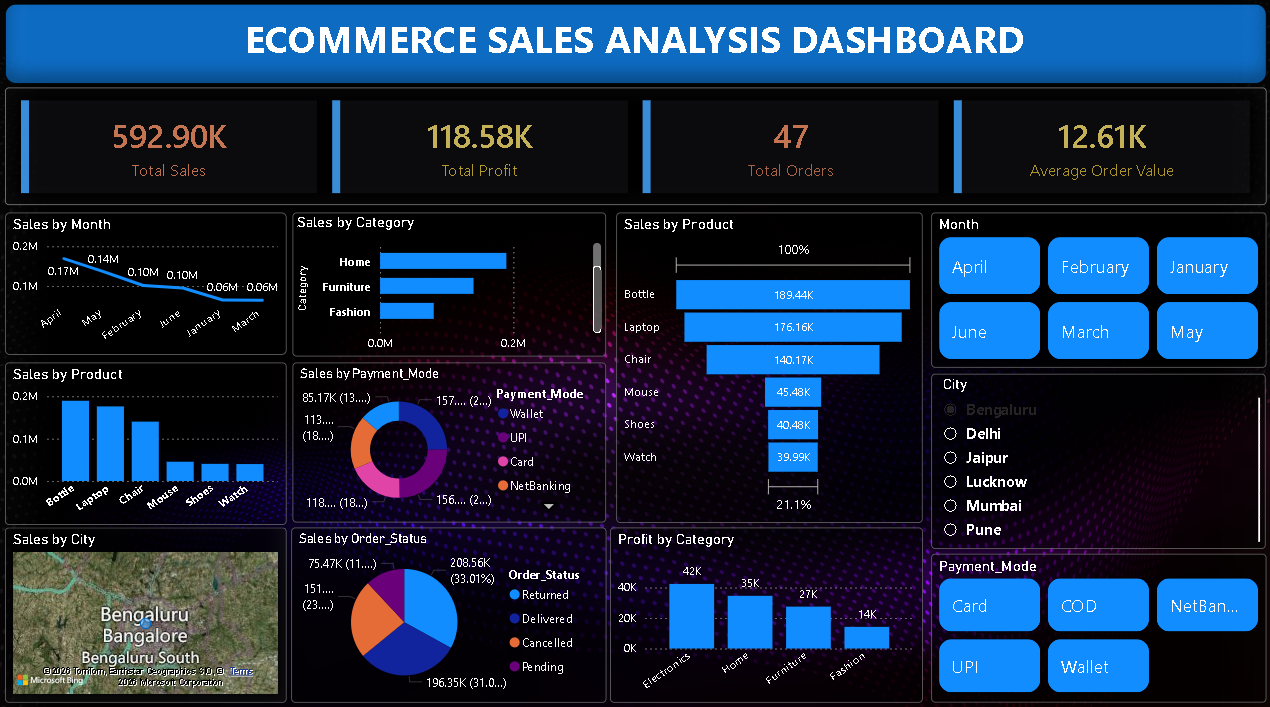

This screenshot's page, from the dashboard's own definition file:
{"tool":"powerbi","page":{"name":"Page 1","canvas":[1280,720],"ordinal":0},"visuals":[{"type":"cardVisual","fields":{"Data":["Dax Measure.Total Sales","Dax Measure.Total Profit","Dax Measure.Total Orders","Dax Measure.Average Order Value"]},"box":[10,92.5,1261.2,117.5],"z":0},{"type":"textbox","box":[10,8.8,1261.2,80],"z":1000},{"type":"lineChart","title":"Sales by Month","fields":{"Category":["ecommerce orders.Month"],"Y":["Sum(ecommerce orders.Sales)"]},"box":[10,217.5,281.2,142.5],"z":2000},{"type":"barChart","title":"Sales by Category","fields":{"Category":["ecommerce orders.Category"],"Y":["Sum(ecommerce orders.Sales)"]},"box":[300,217.5,313.8,143.8],"z":3000},{"type":"columnChart","title":"Sales by Product","fields":{"Category":["ecommerce orders.Product"],"Y":["Sum(ecommerce orders.Sales)"]},"box":[10,367.5,281.2,160],"z":4000},{"type":"map","title":"Sales by City","fields":{"Category":["ecommerce orders.City"],"Size":["Sum(ecommerce orders.Sales)"]},"box":[10,532.5,281.2,175],"z":5000},{"type":"donutChart","title":"Sales by Payment_Mode","fields":{"Category":["ecommerce orders.Payment_Mode"],"Y":["Sum(ecommerce orders.Sales)"]},"box":[298.8,367.5,315,160],"z":6000},{"type":"pieChart","title":"Sales by Order_Status","fields":{"Category":["ecommerce orders.Order_Status"],"Y":["Sum(ecommerce orders.Sales)"]},"box":[298.8,532.5,315,175],"z":7000},{"type":"funnel","title":"Sales by Product","fields":{"Category":["ecommerce orders.Product"],"Y":["Sum(ecommerce orders.Sales)"]},"box":[620.8,217.5,306.7,310],"z":8000},{"type":"clusteredColumnChart","title":"Profit by Category","fields":{"Category":["ecommerce orders.Category"],"Y":["Sum(ecommerce orders.Profit)"]},"box":[620.6,532.5,306.9,175],"z":9000},{"type":"advancedSlicerVisual","fields":{"Values":["ecommerce orders.Month"]},"box":[936,218,335,155],"z":10000},{"type":"listSlicer","fields":{"Values":["ecommerce orders.City"]},"box":[936.2,378.5,334.6,175.4],"z":11000},{"type":"advancedSlicerVisual","fields":{"Values":["ecommerce orders.Payment_Mode"]},"box":[936.2,559.2,335.4,148.5],"z":12000}]}

Visuals, with their boxes in screenshot pixels (x1, y1, x2, y2), scaled from the page's 1280x720 canvas onto the 1270x707 screenshot:
cardVisual - Dax Measure.Total Sales x Dax Measure.Total Profit: detection(10, 91, 1261, 206)
textbox: detection(10, 9, 1261, 87)
"Sales by Month" lineChart: detection(10, 214, 289, 354)
"Sales by Category" barChart: detection(298, 214, 609, 355)
"Sales by Product" columnChart: detection(10, 361, 289, 518)
"Sales by City" map: detection(10, 523, 289, 695)
"Sales by Payment_Mode" donutChart: detection(296, 361, 609, 518)
"Sales by Order_Status" pieChart: detection(296, 523, 609, 695)
"Sales by Product" funnel: detection(616, 214, 920, 518)
"Profit by Category" clusteredColumnChart: detection(616, 523, 920, 695)
advancedSlicerVisual - ecommerce orders.Month: detection(929, 214, 1261, 366)
listSlicer - ecommerce orders.City: detection(929, 372, 1261, 544)
advancedSlicerVisual - ecommerce orders.Payment_Mode: detection(929, 549, 1262, 695)
